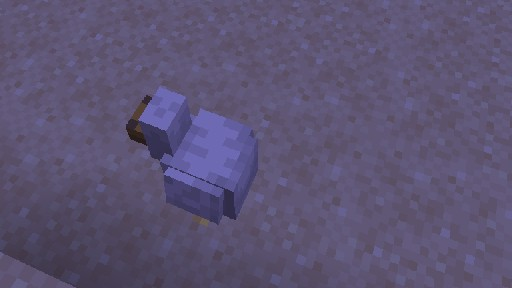chicken: (125, 86, 257, 226)
